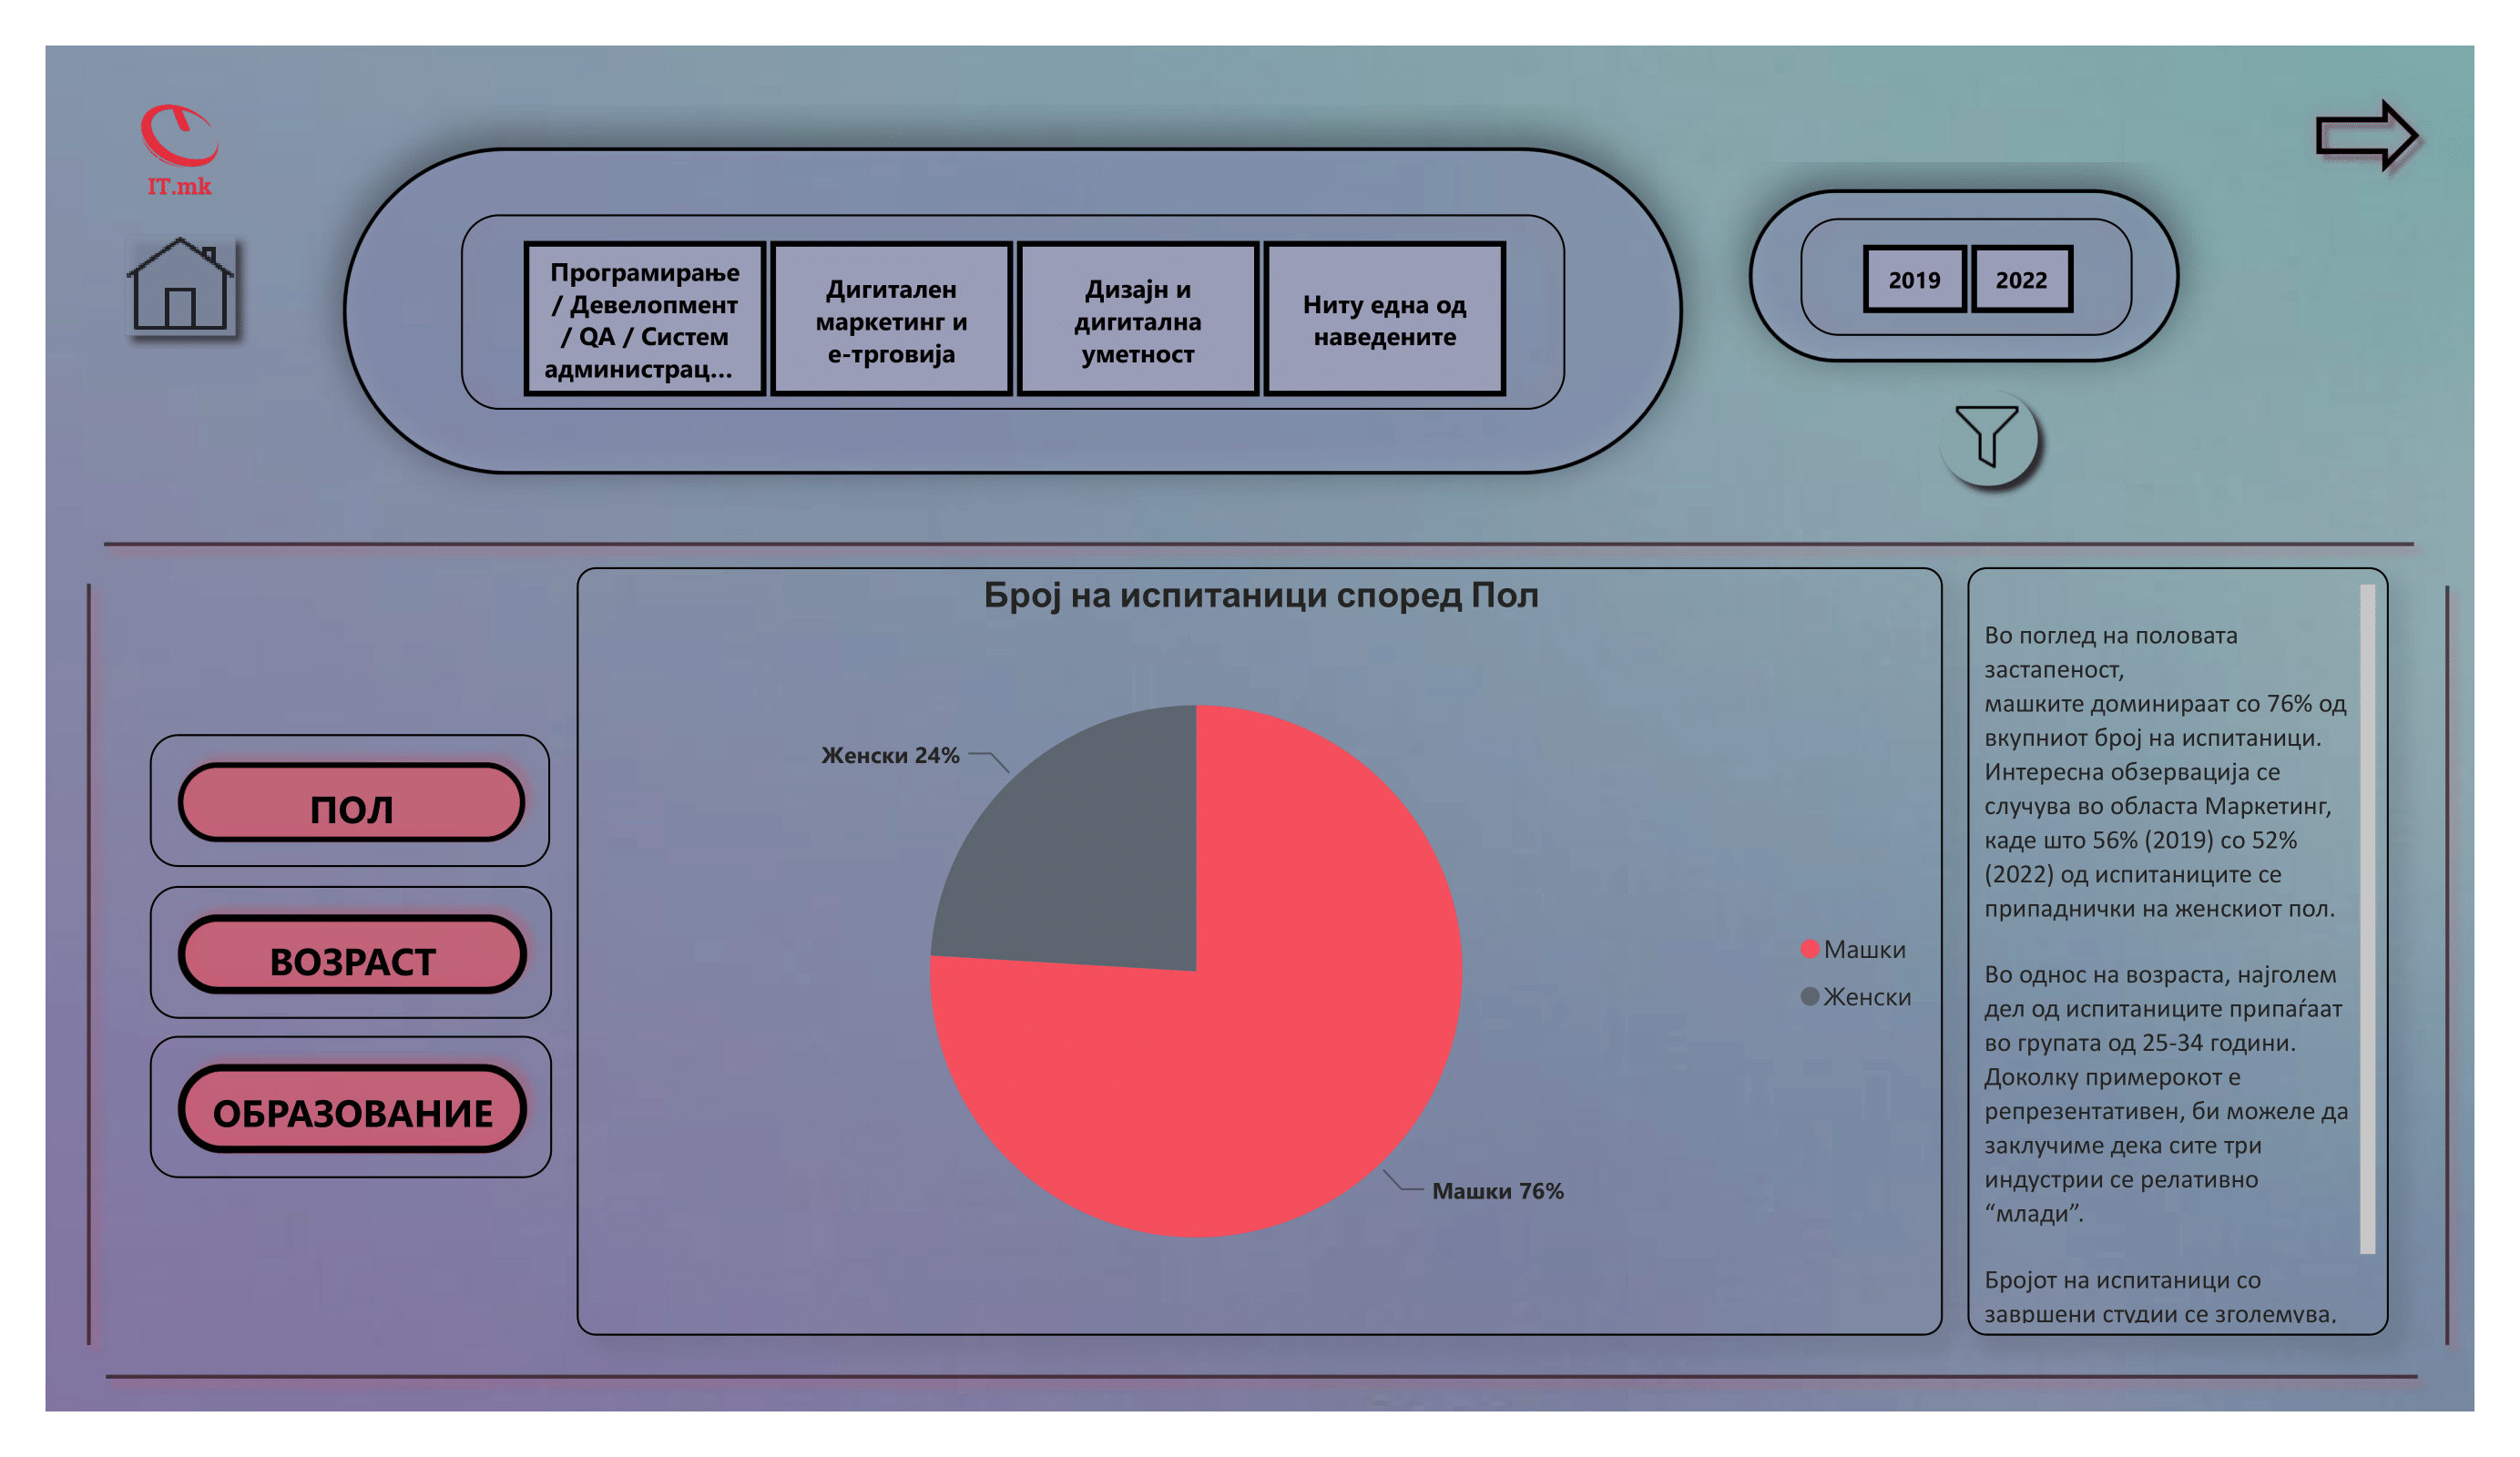

What the dashboard file says about the page in this screenshot:
{"tool":"powerbi","page":{"name":"Општо","canvas":[1280,720],"ordinal":1},"visuals":[{"type":"shape","box":[11.7,275.1,22.1,418.5],"z":0},{"type":"shape","box":[23.3,692.5,1235.7,19.8],"z":1000},{"type":"shape","box":[1256.7,276.3,17.5,417.3],"z":2000},{"type":"shape","box":[22.1,251.8,1234.5,22.1],"z":3000},{"type":"textbox","box":[1013,275.1,221.5,404.5],"z":4000},{"type":"actionButton","title":"Pol button","box":[54.8,362.6,211.3,70.4],"z":5000},{"type":"actionButton","title":"Vozrast button","box":[54.8,443.4,212.4,69.4],"z":6000},{"type":"actionButton","title":"Obrazovanie button","box":[54.8,522.1,212.4,74.6],"z":7000},{"type":"image","box":[23.1,19.2,95.2,71.2],"z":8000},{"type":"actionButton","box":[33.2,91.3,75.7,70.5],"z":9000},{"type":"actionButton","box":[1189.1,19.8,69.9,54.8],"z":10000},{"type":"shape","box":[873.2,51,277,141.4],"z":11000},{"type":"shape","box":[132.3,29.1,756,222.3],"z":12000},{"type":"actionButton","box":[989.8,174.4,68.5,65.9],"z":13000},{"type":"slicer","fields":{"Values":["Mapiranje 2019-2022.Q1 Одбери сектор (groups)"]},"box":[219.2,88.6,581.7,103.8],"z":14000},{"type":"slicer","fields":{"Values":["Date.Year"]},"box":[925.1,91.4,175,61.5],"z":15000},{"type":"pieChart","title":"Број на испитаници според Пол","fields":{"Category":["Mapiranje 2019-2022.Q38 Пол (groups)"],"Y":["CountNonNull(Mapiranje 2019-2022.Index)"]},"box":[279.8,275,720.4,405],"z":16000}]}

Visuals, with their boxes on the page's 1280x720 design canvas (x1, y1, x2, y2). These are canvas units, not pixel positions in the 2520x1457 screenshot, which may show the page scaled, cropped or inside an application window:
shape: detection(12, 275, 34, 694)
shape: detection(23, 692, 1259, 712)
shape: detection(1257, 276, 1274, 694)
shape: detection(22, 252, 1257, 274)
textbox: detection(1013, 275, 1234, 680)
"Pol button" actionButton: detection(55, 363, 266, 433)
"Vozrast button" actionButton: detection(55, 443, 267, 513)
"Obrazovanie button" actionButton: detection(55, 522, 267, 597)
image: detection(23, 19, 118, 90)
actionButton: detection(33, 91, 109, 162)
actionButton: detection(1189, 20, 1259, 75)
shape: detection(873, 51, 1150, 192)
shape: detection(132, 29, 888, 251)
actionButton: detection(990, 174, 1058, 240)
slicer - Mapiranje 2019-2022.Q1 Одбери сектор (groups): detection(219, 89, 801, 192)
slicer - Date.Year: detection(925, 91, 1100, 153)
"Број на испитаници според Пол" pieChart: detection(280, 275, 1000, 680)
